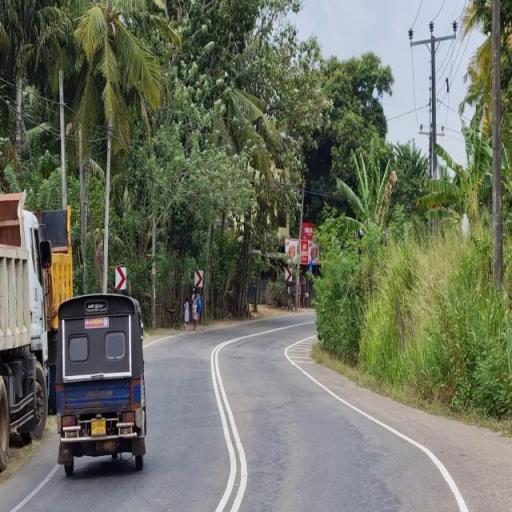double_white_line: (290, 330, 466, 510), (208, 335, 246, 511), (7, 462, 58, 510)
